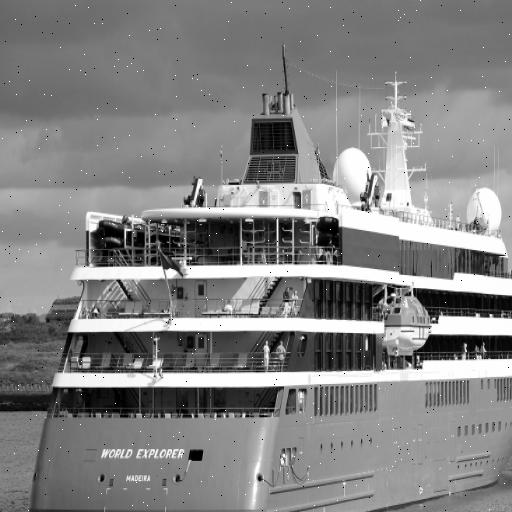cruises: (25, 43, 512, 512)
